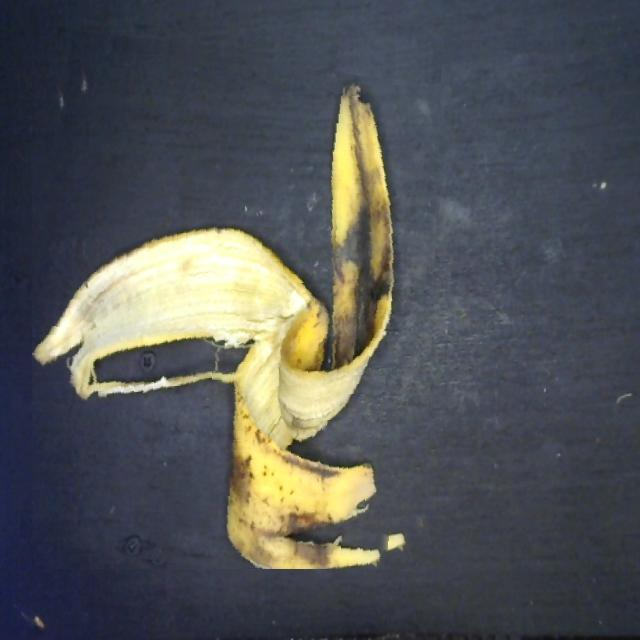biodegradable: (32, 41, 442, 569)
